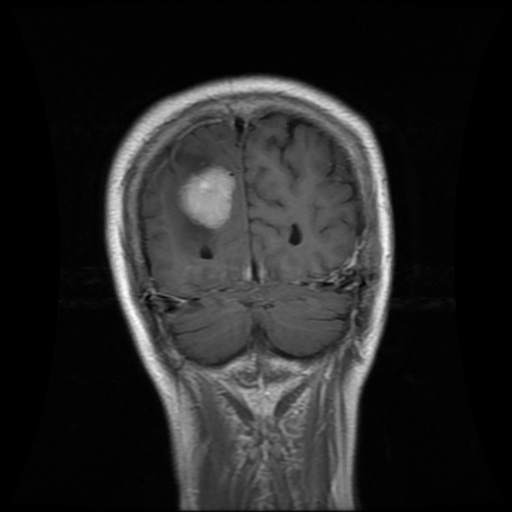meningioma: (179, 165, 237, 228)
